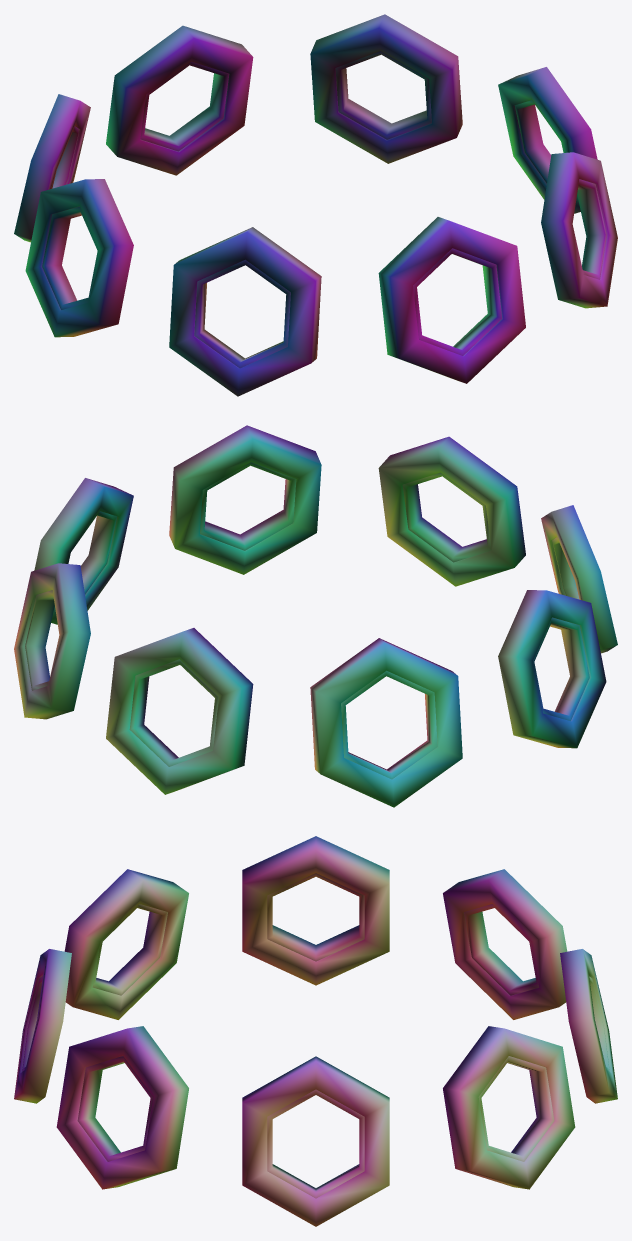
Rendered from SM_FX_HexRing.fbx.
3 views of the same model, one above another, from view 1: azimuth 30°, elevation 25°; view 2: azimuth 150°, elevation 25°; view 3: azimuth 270°, elevation 25° (orthographic).
Parts seen in each view (by area): view 1: SM_FX_HexRing; view 2: SM_FX_HexRing; view 3: SM_FX_HexRing.
Boxes of the visible parts, <box> form: SM_FX_HexRing: <box>14,14,617,396</box>; SM_FX_HexRing: <box>14,425,617,807</box>; SM_FX_HexRing: <box>14,836,617,1226</box>.
Bounding box in the file's own units: 1.77 × 0.501 × 1.77.
